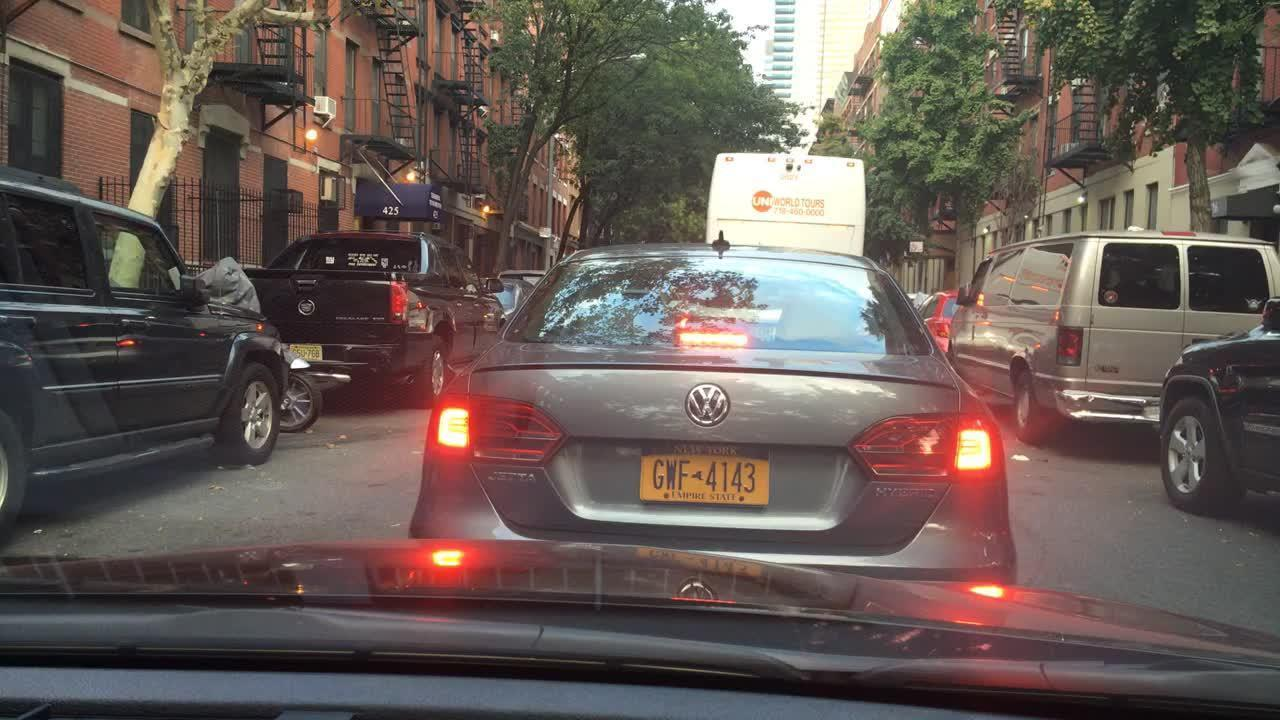Volkswagen: (685, 376, 740, 434)
cadillac: (295, 296, 320, 319)
